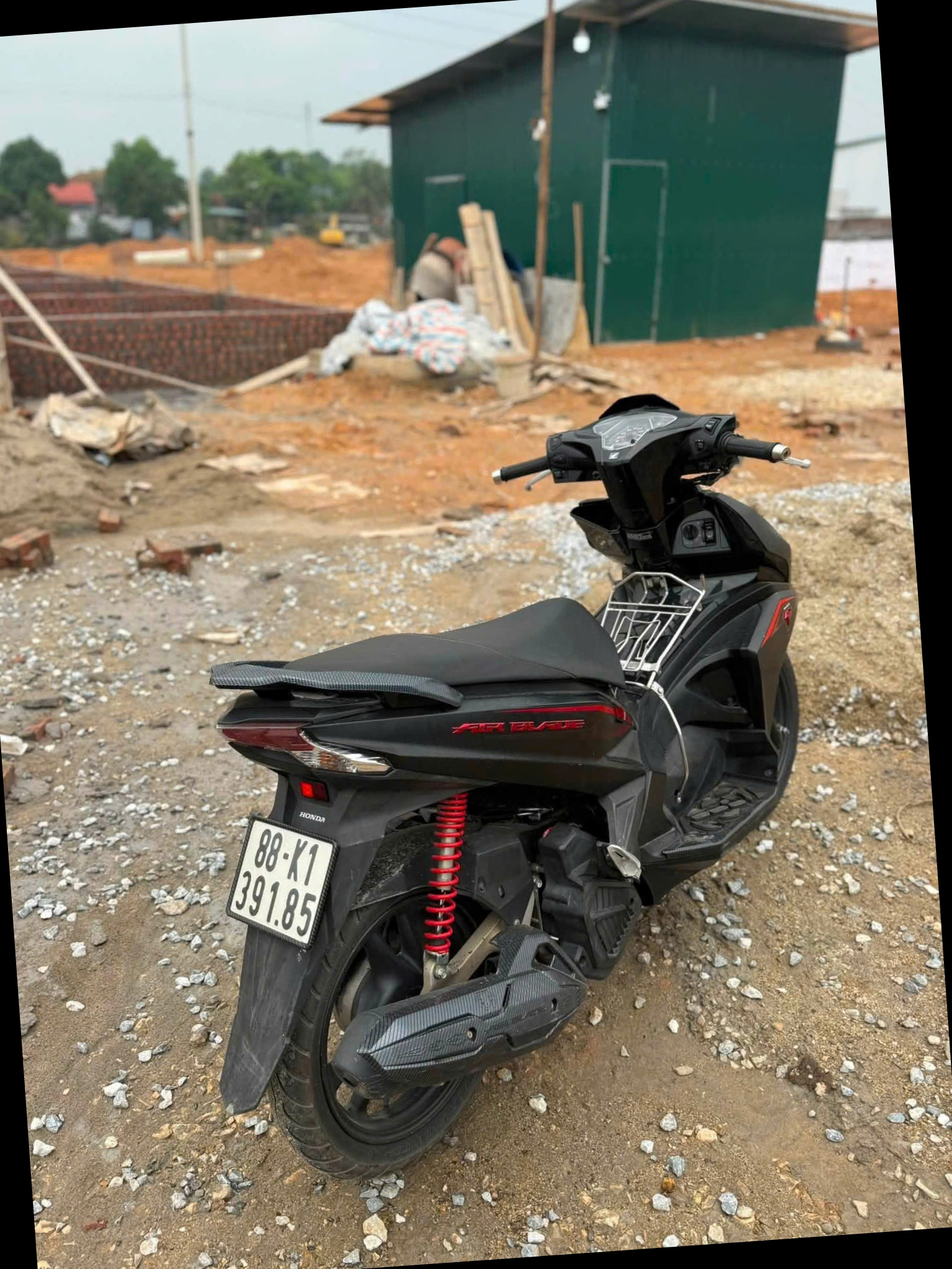Bien-so: (228, 808, 342, 944)
